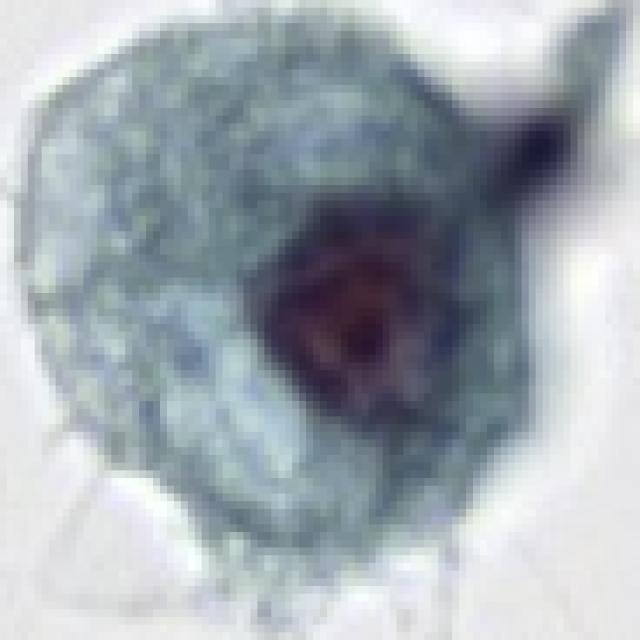nucleus: (216, 136, 536, 457)
